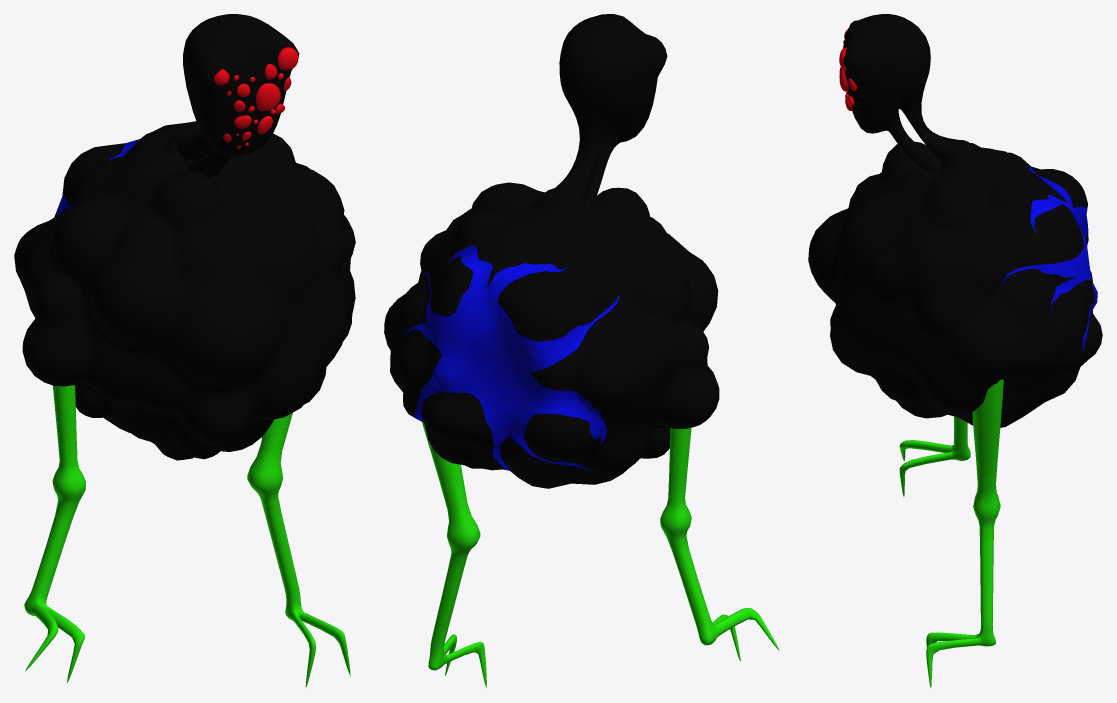
The model's file is Mesh_NewEnemy.fbx.
The picture shows the model from 3 angles, left to right: view 1: azimuth 30°, elevation 25°; view 2: azimuth 150°, elevation 25°; view 3: azimuth 270°, elevation 25°; orthographic projection. The views are drawn at different scales.
Parts seen in each view (by area): view 1: Enemy; view 2: Enemy; view 3: Enemy.
Boxes of the visible parts, x1,y1,x2,y2 form: Enemy: [14, 14, 355, 688]; Enemy: [384, 14, 779, 688]; Enemy: [808, 14, 1102, 688].
Bounding box in the file's own units: 76.87 × 142 × 62.19.
